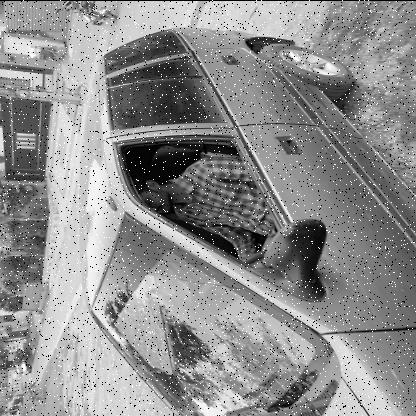no_seatbelt: (140, 153, 260, 231)
